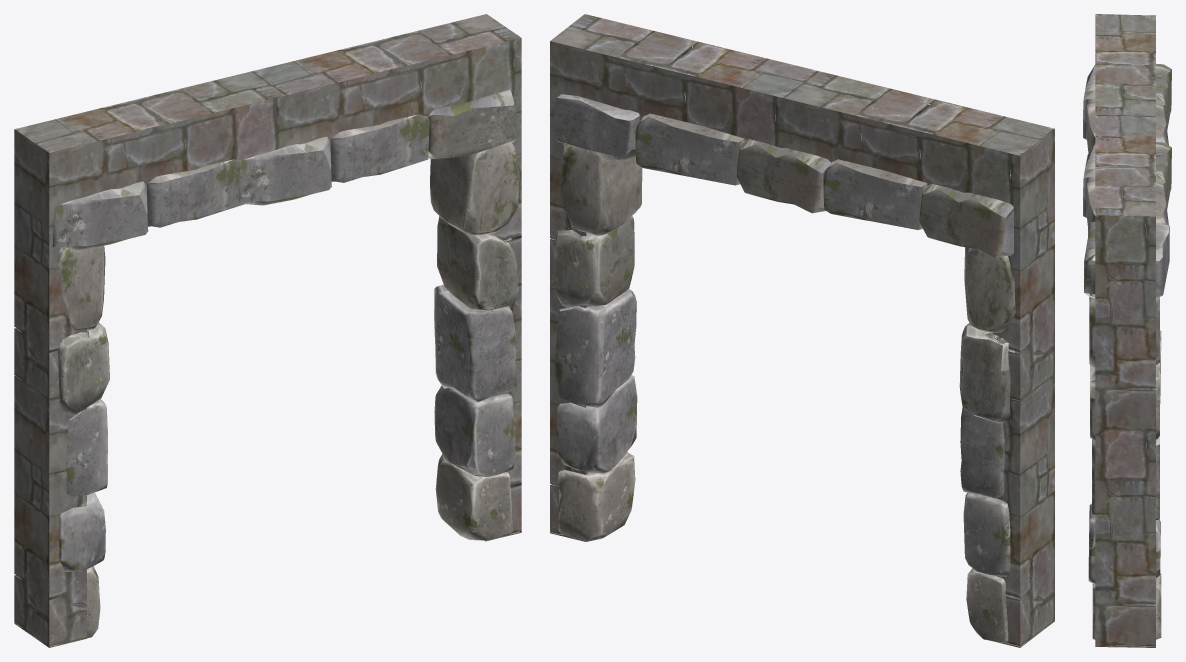
3 views of the same model, side by side, from view 1: azimuth 30°, elevation 25°; view 2: azimuth 150°, elevation 25°; view 3: azimuth 270°, elevation 25° (orthographic). The views are drawn at different scales.
Visible parts, largest first — view 1: SM_BB_T3_Wall_Doorframe_Double_LOD0; view 2: SM_BB_T3_Wall_Doorframe_Double_LOD0; view 3: SM_BB_T3_Wall_Doorframe_Double_LOD0.
Part boxes in pixels (bbox=[...]): SM_BB_T3_Wall_Doorframe_Double_LOD0: bbox=[14, 14, 521, 647]; SM_BB_T3_Wall_Doorframe_Double_LOD0: bbox=[550, 14, 1054, 647]; SM_BB_T3_Wall_Doorframe_Double_LOD0: bbox=[1083, 14, 1171, 647].
Bounding box in the file's own units: 3 × 3.02 × 0.5607.
2 materials, 2 textured.
